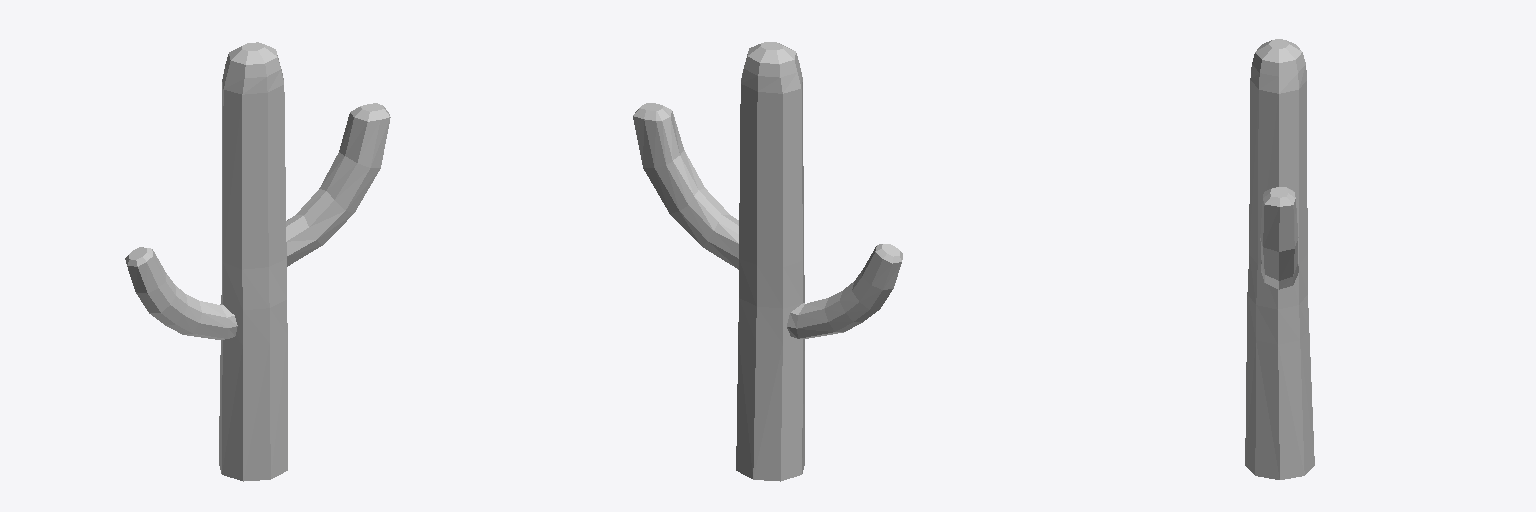
The model's file is Cactus2.obj.
3 views of the same model, side by side, from view 1: azimuth 30°, elevation 25°; view 2: azimuth 150°, elevation 25°; view 3: azimuth 270°, elevation 25° (orthographic).
Visible parts, largest first — view 1: cactus_2; view 2: cactus_2; view 3: cactus_2.
Part boxes in pixels (bbox=[...]): cactus_2: bbox=[125, 42, 390, 481]; cactus_2: bbox=[633, 42, 902, 481]; cactus_2: bbox=[1245, 39, 1314, 479].
Size of the model in its own units: 190 by 290 by 43.59.